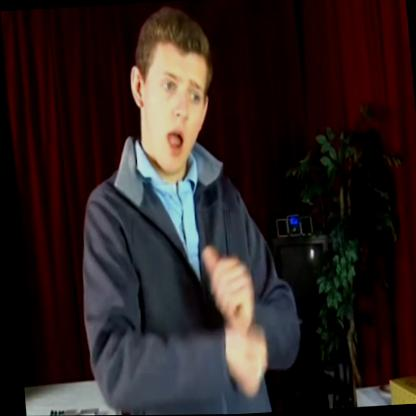HowAreYou: (194, 237, 278, 395)
